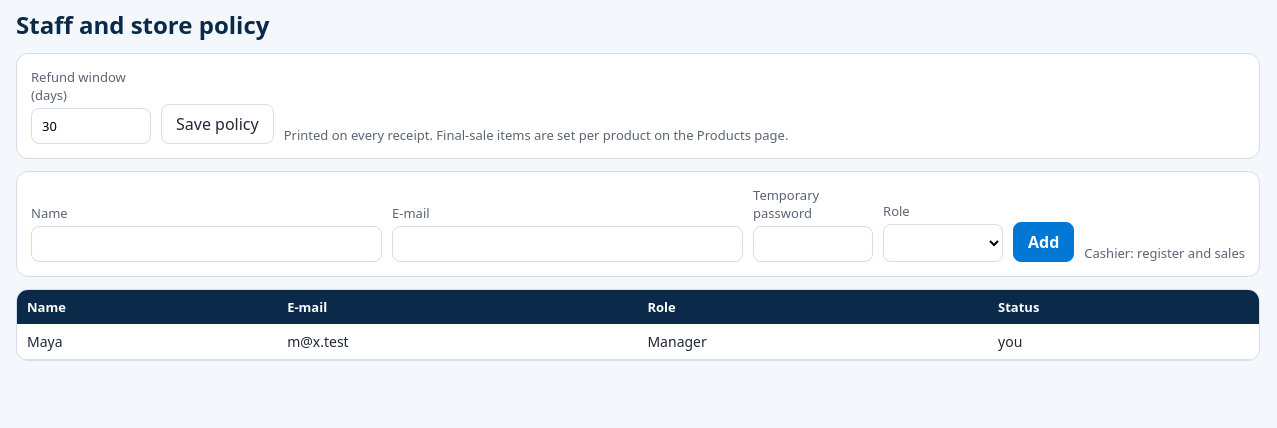
Test: <Team> store refund policy › saves the refund window and reports it back
Replace the text in the field labelled "Refund window (days)" with "400" at (91, 126), box [31,108,151,144]
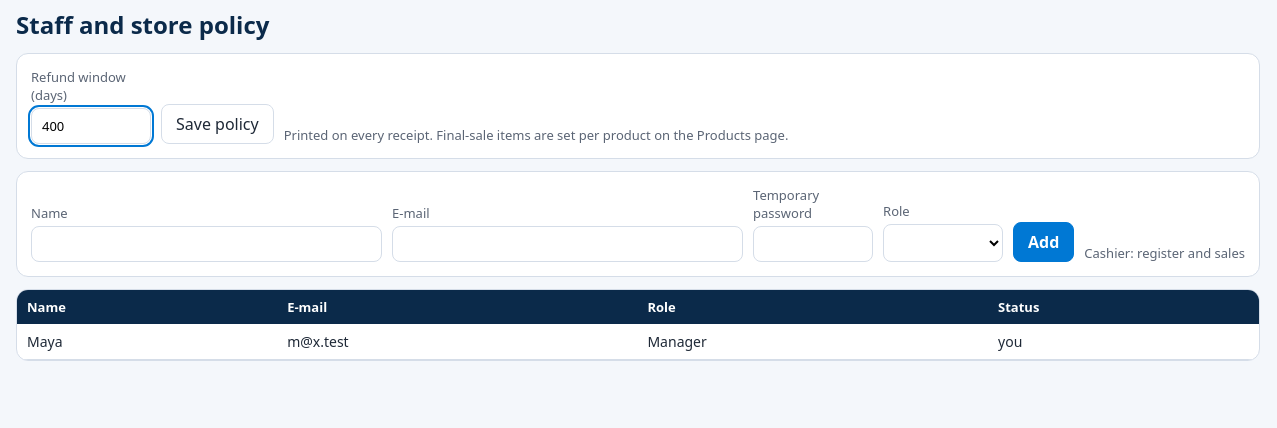
Click the button "Save policy" at (217, 124), box [161,104,274,144]
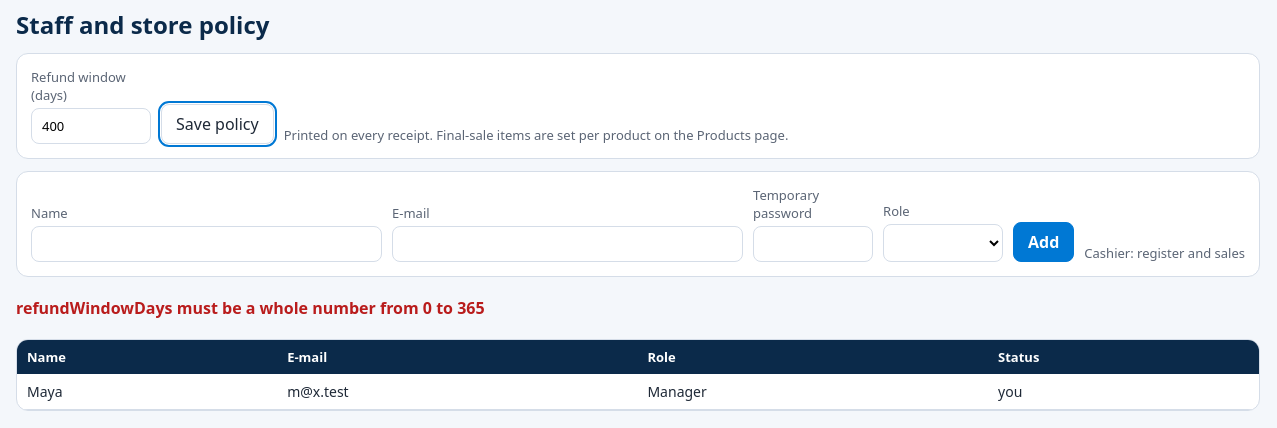
Now the message shows "0 to 365", box [16,297,485,319]
Replace the text in the field labelled "Refund window (days)" with "14" at (91, 126), box [31,108,151,144]
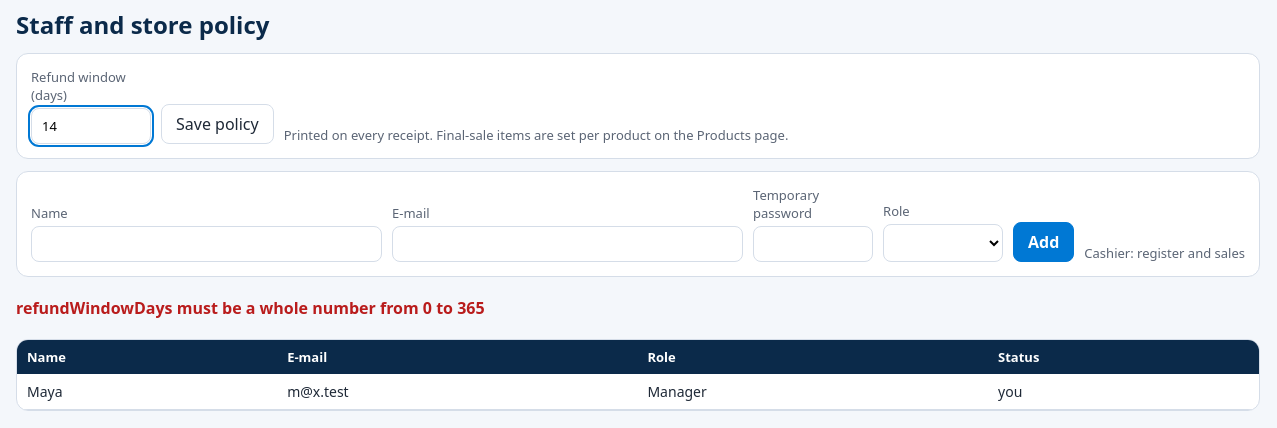
Click the button "Save policy" at (217, 124), box [161,104,274,144]
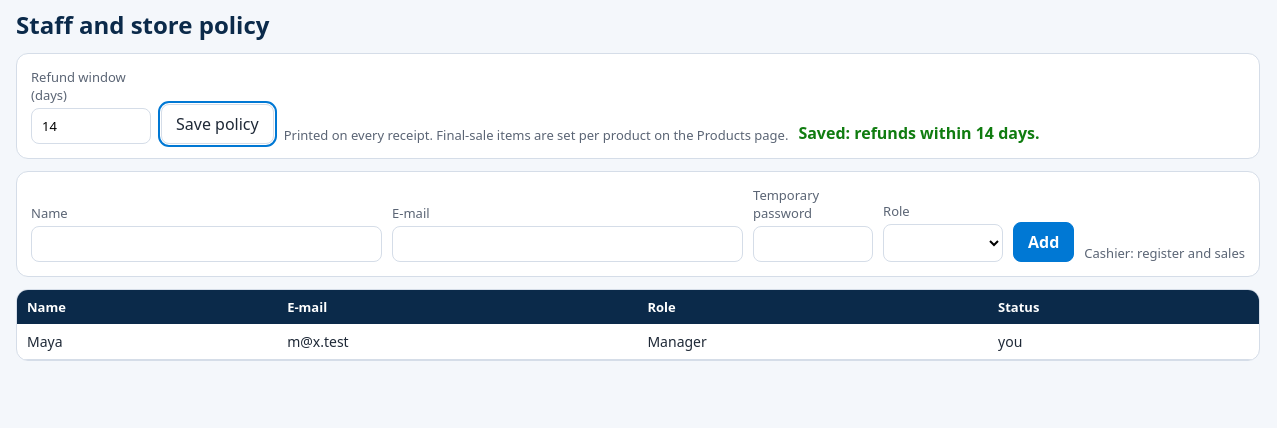
Now the text "Saved: refunds within 14 days." is shown, box [798,122,1040,144]
